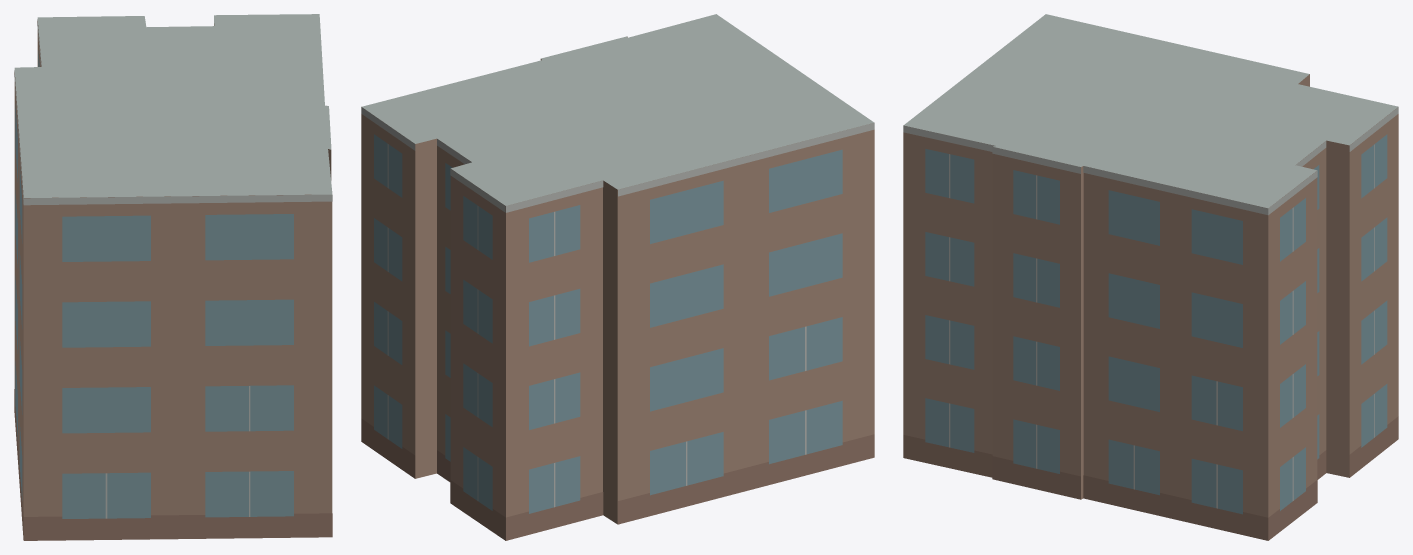
The model's file is survey-upis-32797558.glb.
3 renders of one model, left to right at view 1: azimuth 30°, elevation 25°; view 2: azimuth 150°, elevation 25°; view 3: azimuth 270°, elevation 25°, orthographic. The views are drawn at different scales.
Visible parts, largest first — view 1: survey-upis-32797558.tmp; view 2: survey-upis-32797558.tmp; view 3: survey-upis-32797558.tmp.
Part boxes in pixels (x1=…): survey-upis-32797558.tmp: x1=14, y1=14, x2=332, y2=540; survey-upis-32797558.tmp: x1=361, y1=14, x2=874, y2=540; survey-upis-32797558.tmp: x1=903, y1=14, x2=1398, y2=540.
Bounding box in the file's own units: 14.74 × 11.75 × 15.87.
